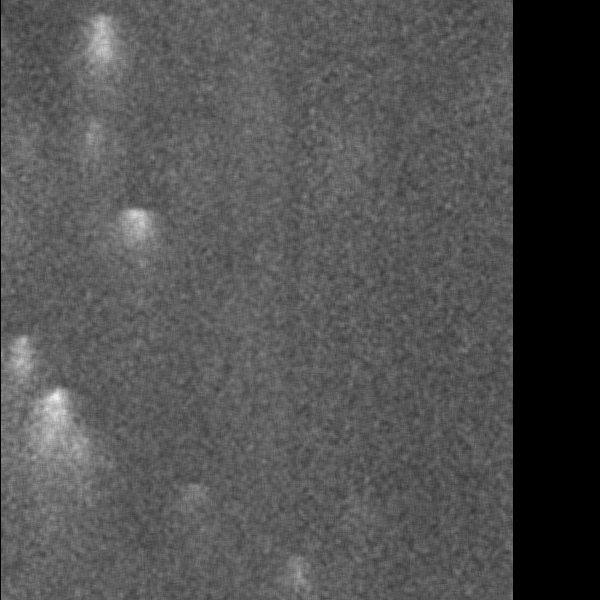spark: (34, 382, 76, 536), (77, 9, 127, 103), (109, 202, 164, 285), (169, 474, 210, 540), (5, 333, 34, 406), (284, 552, 307, 600), (78, 127, 106, 154)
